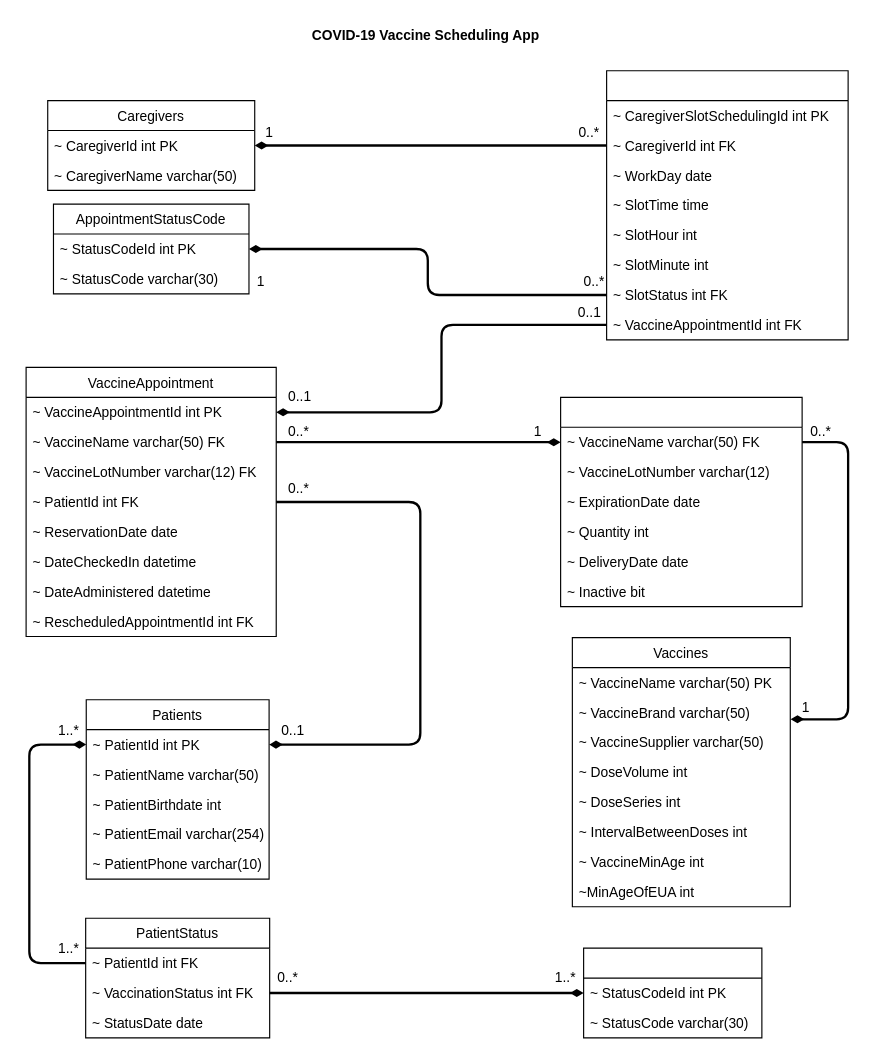
The diagram is 877 pixels wide and 1060 high, and some of its shapes have lost their labels. The box of each missing label's shape, as (x1, y1, x2, y2) in pixels:
CaregiverSchedule: (605, 70, 848, 340)
VaccinationStatusCodes: (582, 947, 762, 1038)
VaccineLineItem: (559, 396, 802, 607)
